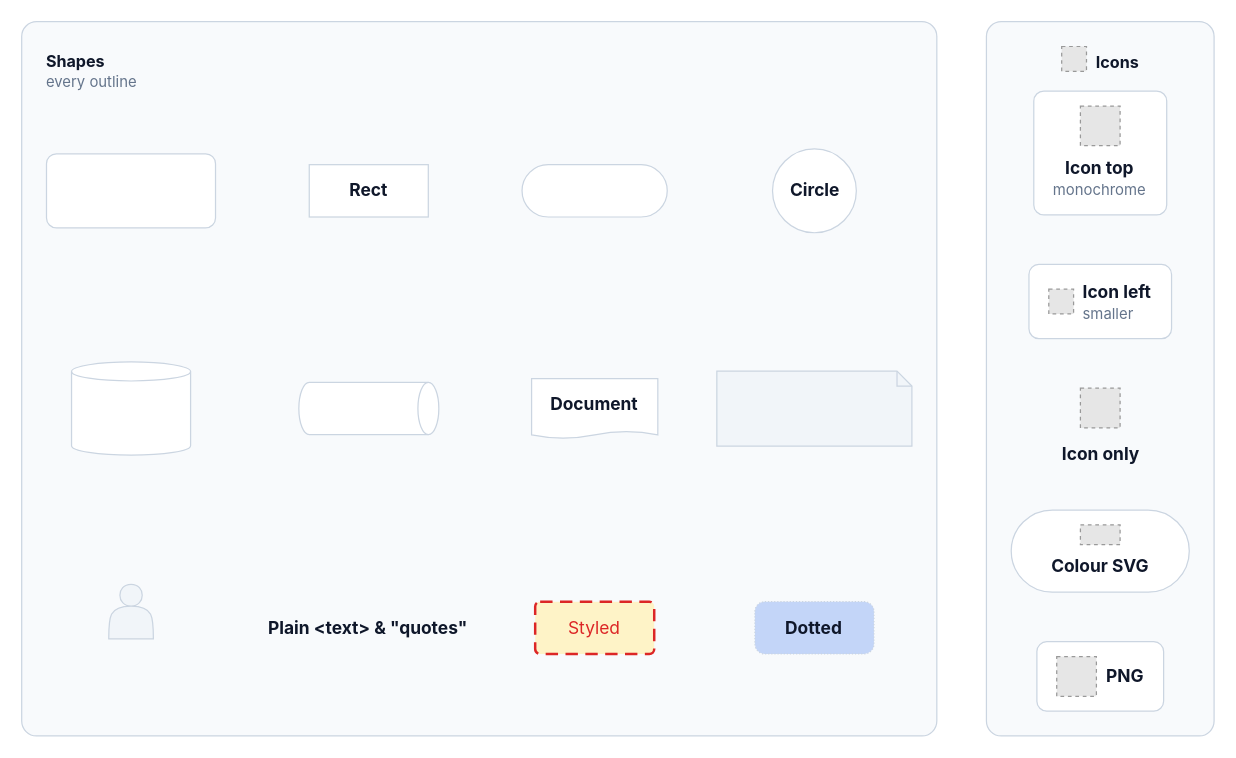
Image size: 1236x758. Some labels were removed from this diagram. Grey dashed boxes stand in for pictures. The shapes that lost their labels are listed below. From the top down, each one's centre as x and y in pixels, then its label:
At point (130, 190): "Box rounded rectangle".
At point (594, 190): "Pill".
At point (130, 408): "Cylinder primary".
At point (368, 408): "Queue".
At point (814, 408): "A note that wraps over several lines".
At point (130, 611): "Person".
